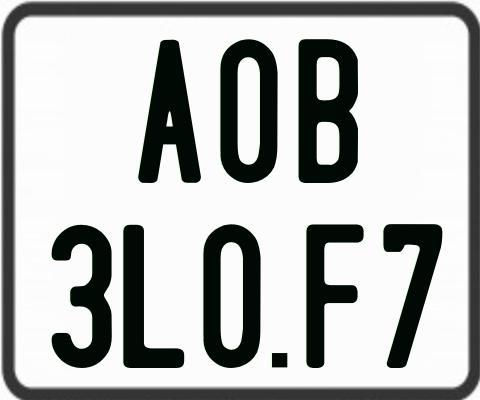0: (220, 36, 283, 184), (201, 223, 260, 373)
3: (49, 223, 113, 366)
7: (382, 221, 444, 365)
A: (135, 39, 202, 187)
B: (298, 37, 359, 183)
F: (303, 221, 361, 365)
L: (121, 223, 183, 367)
